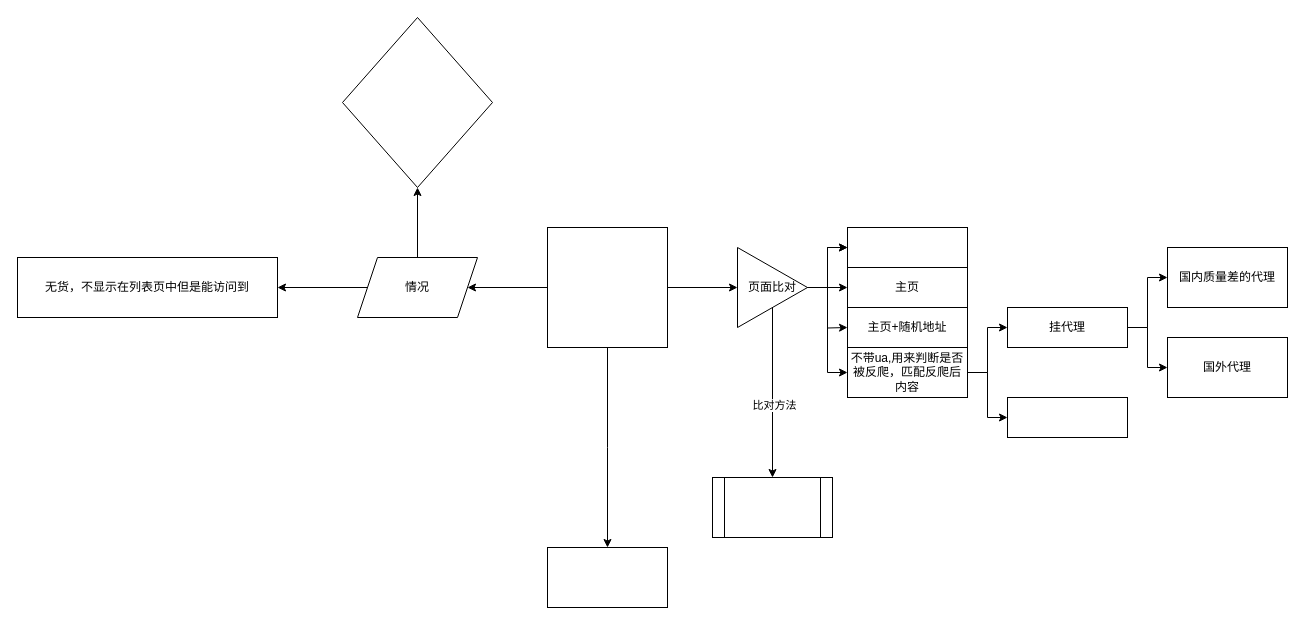
Image size: 1305x625. Some labels were removed from this diagram. The centre of each missing label's shape, as x and y in pixels:
1.图片比对 2.html内容比对 3.headers比对: point (772, 507)
不挂代理: point (1067, 417)
什么是下架商品: point (417, 102)
状态码: point (607, 577)
随机一个详情页地址: point (907, 247)
